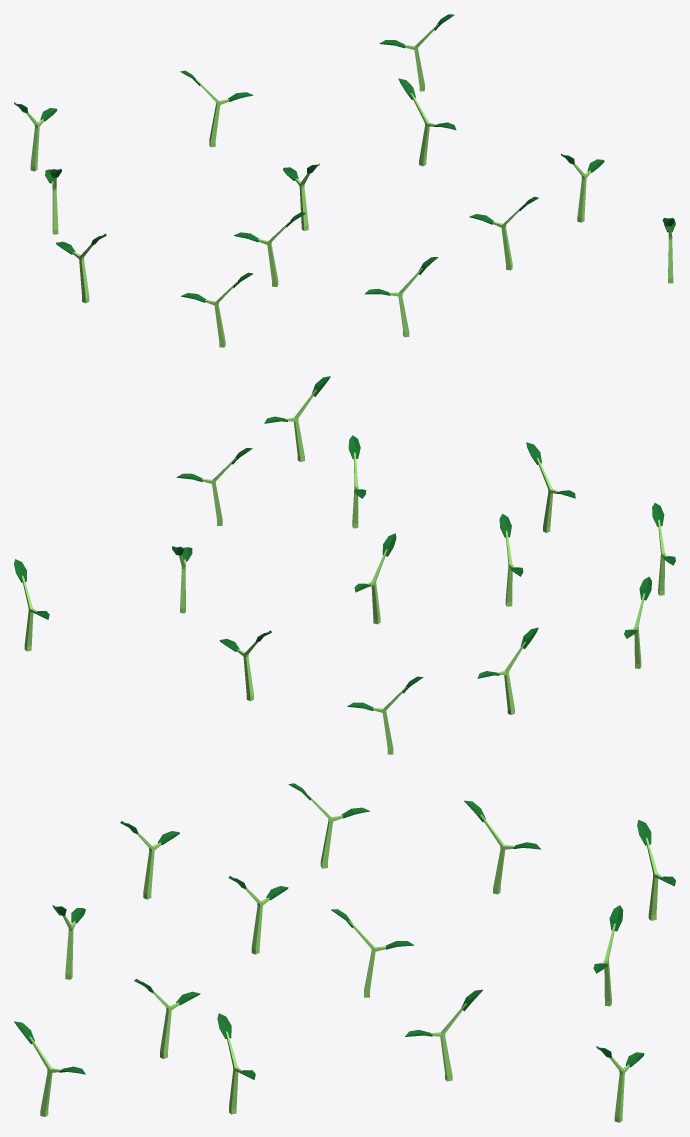
File: Green beans2.fbx
The picture shows the model from 3 angles, top to bottom: view 1: azimuth 30°, elevation 25°; view 2: azimuth 150°, elevation 25°; view 3: azimuth 270°, elevation 25°; orthographic projection. The views are drawn at different scales.
Visible parts, largest first — view 1: 2; view 2: 2; view 3: 2.
Boxes of the visible parts, x1,y1,x2,y2 form: 2: (14,14,675,347); 2: (14,376,675,754); 2: (14,783,675,1122).
Size of the model in its own units: 80.31 by 11.77 by 82.41.
